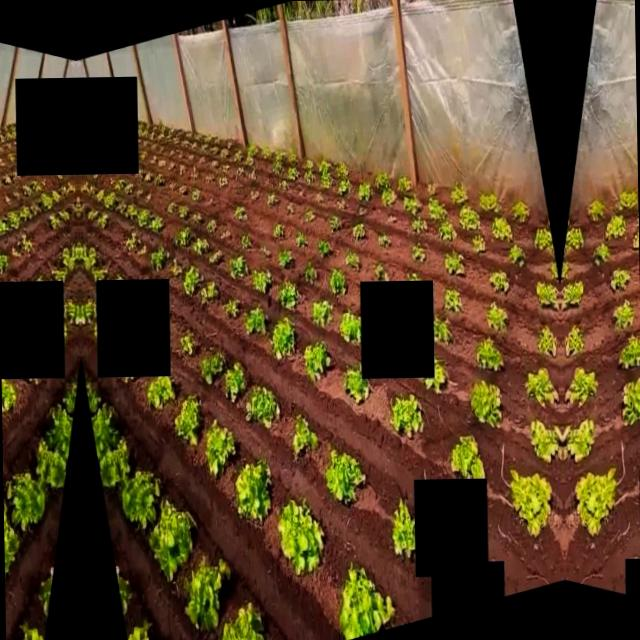healthy: (338, 563, 394, 639), (183, 556, 234, 634), (278, 496, 324, 577), (90, 398, 130, 489), (34, 399, 74, 490), (149, 496, 193, 578), (508, 472, 554, 538), (572, 470, 618, 536), (118, 464, 162, 530), (4, 466, 48, 532), (324, 448, 368, 507), (234, 460, 272, 524), (218, 602, 268, 640), (245, 383, 282, 433), (390, 491, 416, 558), (448, 433, 486, 478), (206, 419, 234, 478), (471, 376, 504, 424), (389, 393, 424, 438), (174, 392, 204, 444), (290, 410, 320, 459), (522, 369, 558, 407), (564, 368, 600, 406), (3, 500, 20, 580), (302, 340, 332, 382), (144, 372, 176, 410), (269, 315, 296, 358), (224, 359, 248, 404), (619, 373, 640, 420), (428, 364, 457, 398), (475, 338, 504, 372), (199, 354, 227, 388), (344, 367, 368, 404), (336, 312, 362, 346), (458, 204, 482, 237), (534, 279, 560, 309), (558, 278, 584, 308), (242, 304, 266, 336), (485, 301, 509, 333), (611, 298, 635, 330), (617, 335, 640, 368), (310, 298, 334, 328), (426, 193, 450, 223), (442, 248, 466, 277), (536, 326, 559, 356), (562, 326, 585, 356), (326, 266, 349, 295), (277, 281, 298, 312), (0, 376, 18, 412), (253, 266, 276, 294), (182, 264, 200, 299), (228, 254, 248, 282), (562, 227, 584, 252), (489, 268, 510, 294), (609, 266, 630, 292), (532, 228, 554, 252), (618, 188, 638, 214), (198, 280, 219, 304), (492, 216, 513, 240), (604, 214, 625, 238), (448, 181, 468, 206), (402, 186, 421, 212), (434, 318, 454, 342), (342, 248, 362, 272), (478, 192, 498, 216), (380, 185, 398, 211), (178, 331, 198, 354), (355, 180, 375, 202), (302, 260, 318, 286), (274, 245, 292, 268), (511, 201, 529, 224), (150, 246, 168, 268), (438, 222, 456, 244), (587, 200, 605, 222), (173, 228, 192, 248), (444, 287, 459, 312), (411, 241, 427, 264), (374, 170, 392, 190), (372, 263, 390, 281), (508, 244, 524, 264), (350, 220, 366, 240), (594, 243, 610, 263), (335, 180, 352, 198), (470, 235, 484, 255), (225, 295, 238, 316), (319, 238, 334, 256), (412, 214, 426, 233), (192, 238, 206, 255), (0, 247, 8, 270), (632, 232, 638, 252), (636, 200, 638, 233)
